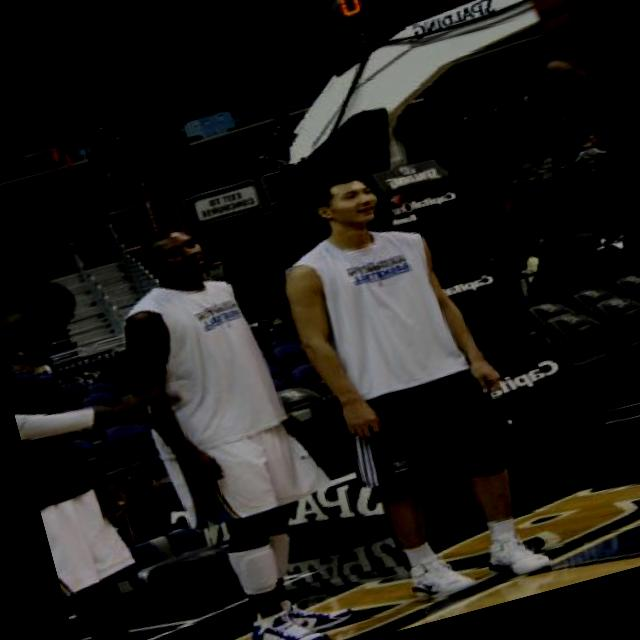Person: (254, 128, 554, 625), (111, 196, 369, 640)
